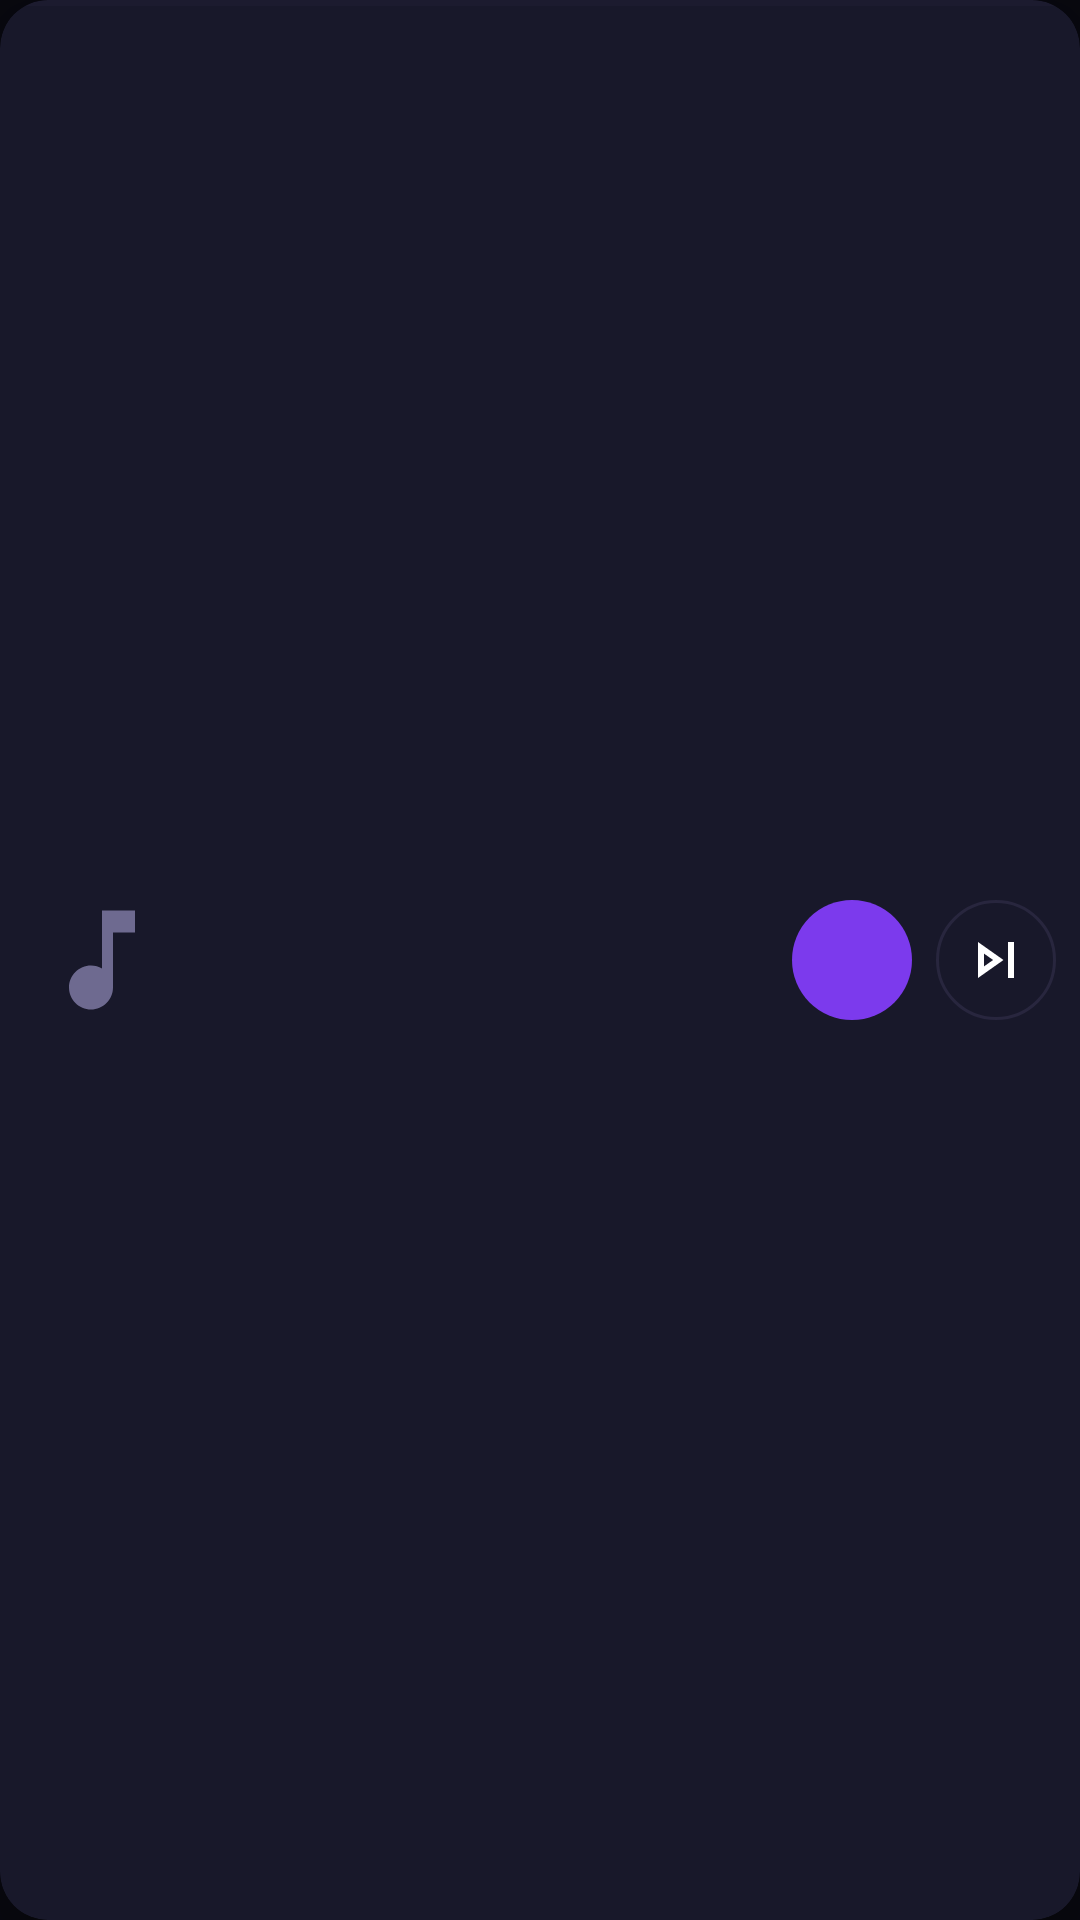

Named icons in this screenshot (1080px x 1920px) and their centers, (x,y):
music note: (102,960)
skip next: (996,960)
